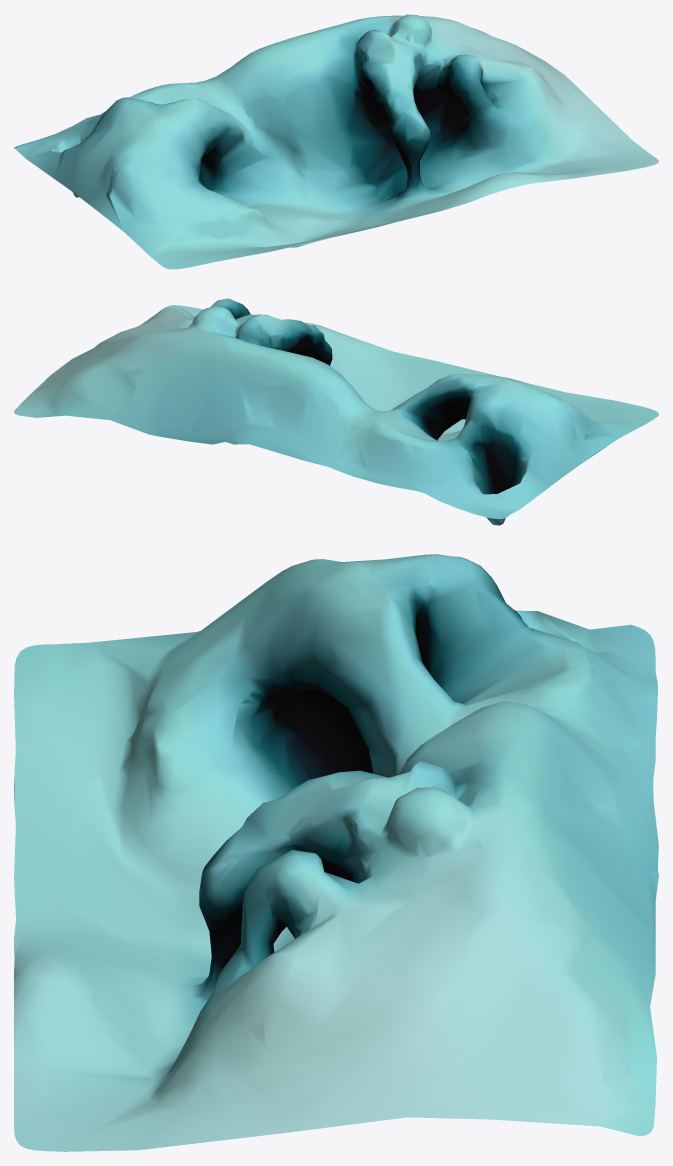
Rendered from Demo Environment.fbx.
3 views of the same model, one above another, from view 1: azimuth 30°, elevation 25°; view 2: azimuth 150°, elevation 25°; view 3: azimuth 270°, elevation 25° (orthographic). The views are drawn at different scales.
Parts seen in each view (by area): view 1: AqGroundM; view 2: AqGroundM; view 3: AqGroundM.
Boxes of the visible parts, bbox=[...] form: AqGroundM: bbox=[14, 14, 658, 269]; AqGroundM: bbox=[14, 298, 658, 525]; AqGroundM: bbox=[14, 554, 658, 1151].
Size of the model in its own units: 97.29 by 25.94 by 55.06.
